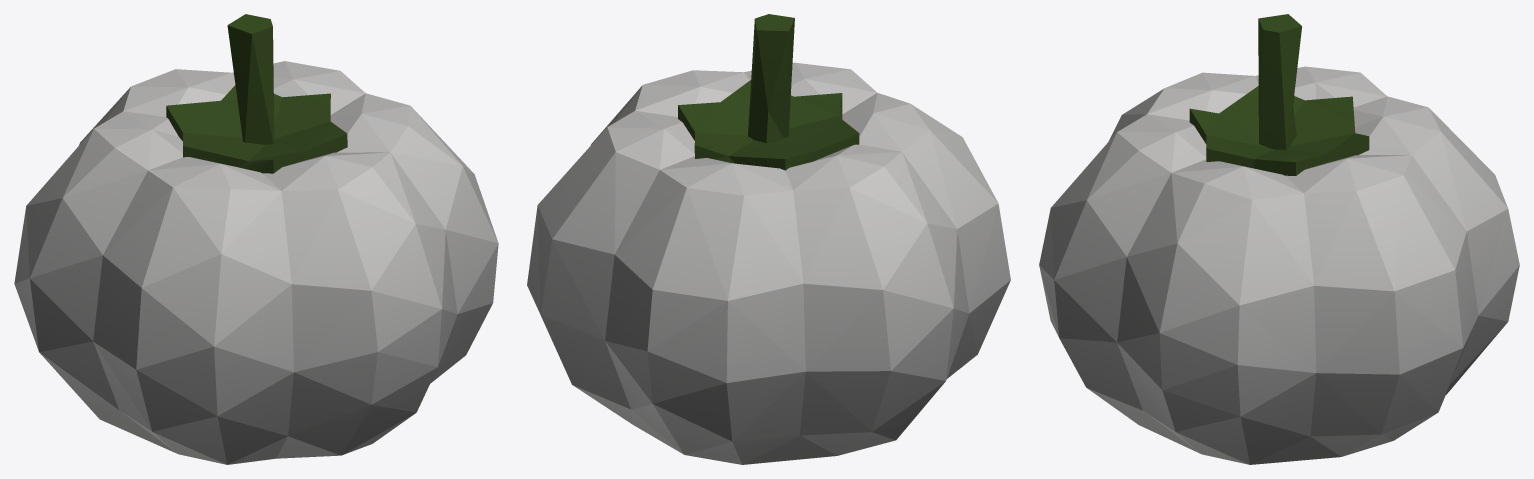
File: Pumpkin_01.fbx
The picture shows the model from 3 angles, left to right: view 1: azimuth 30°, elevation 25°; view 2: azimuth 150°, elevation 25°; view 3: azimuth 270°, elevation 25°; orthographic projection.
Parts seen in each view (by area): view 1: Pumpkin_01; view 2: Pumpkin_01; view 3: Pumpkin_01.
Boxes of the visible parts, x1,y1,x2,y2 form: Pumpkin_01: (14,14,498,464); Pumpkin_01: (527,14,1010,464); Pumpkin_01: (1039,14,1519,464).
Size of the model in its own units: 0.4527 by 0.4134 by 0.4603.
